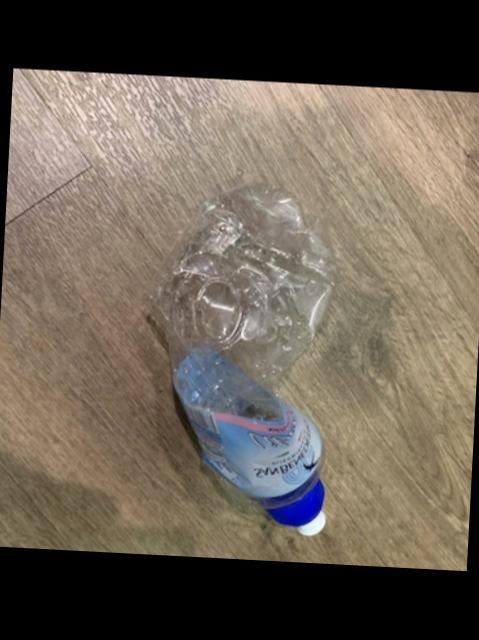plastic: (153, 185, 330, 536)
